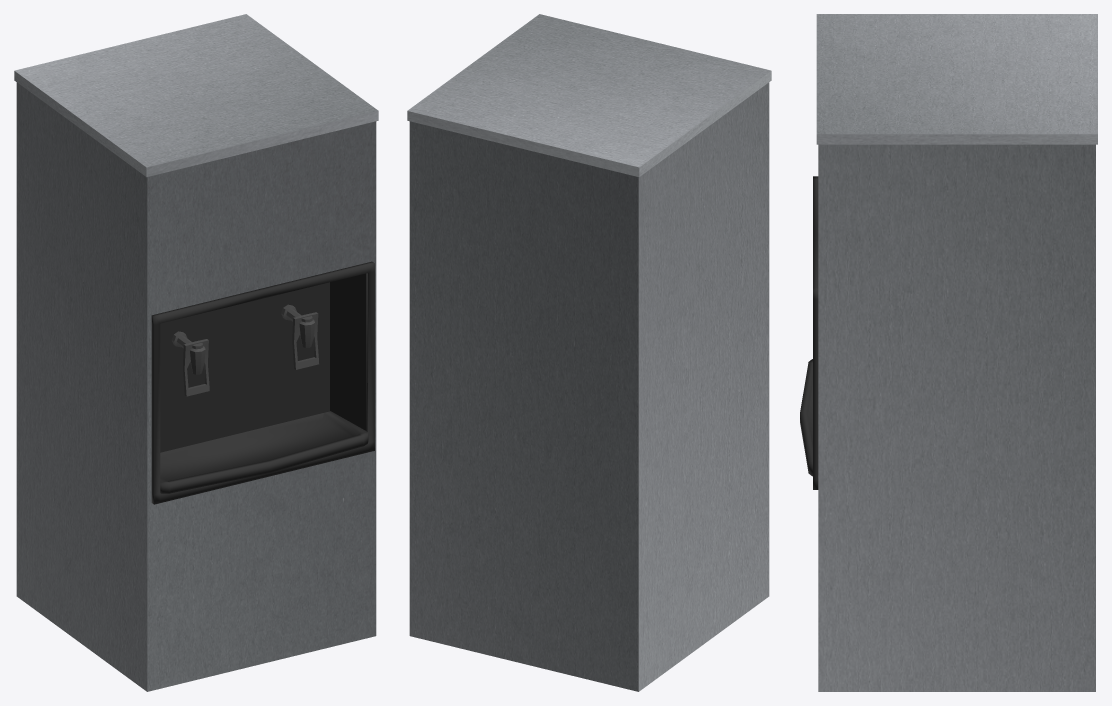
The model's file is BEBEDOURO 1.fbx.
The picture shows the model from 3 angles, left to right: view 1: azimuth 30°, elevation 25°; view 2: azimuth 150°, elevation 25°; view 3: azimuth 270°, elevation 25°; orthographic projection. The views are drawn at different scales.
Parts seen in each view (by area): view 1: METAL DO BEBEDOURO, PRATO DO BEBEDOURO, TORNEIRA; view 2: METAL DO BEBEDOURO; view 3: METAL DO BEBEDOURO, PRATO DO BEBEDOURO.
Part boxes in pixels (<box>): METAL DO BEBEDOURO: <box>14,14,378,691</box>; PRATO DO BEBEDOURO: <box>151,261,374,504</box>; TORNEIRA: <box>172,304,318,396</box>; METAL DO BEBEDOURO: <box>407,14,771,691</box>; METAL DO BEBEDOURO: <box>816,14,1097,691</box>; PRATO DO BEBEDOURO: <box>800,176,818,489</box>.
Bounding box in the file's own units: 3.27 × 7.08 × 3.42.
4 materials, 1 textured.
